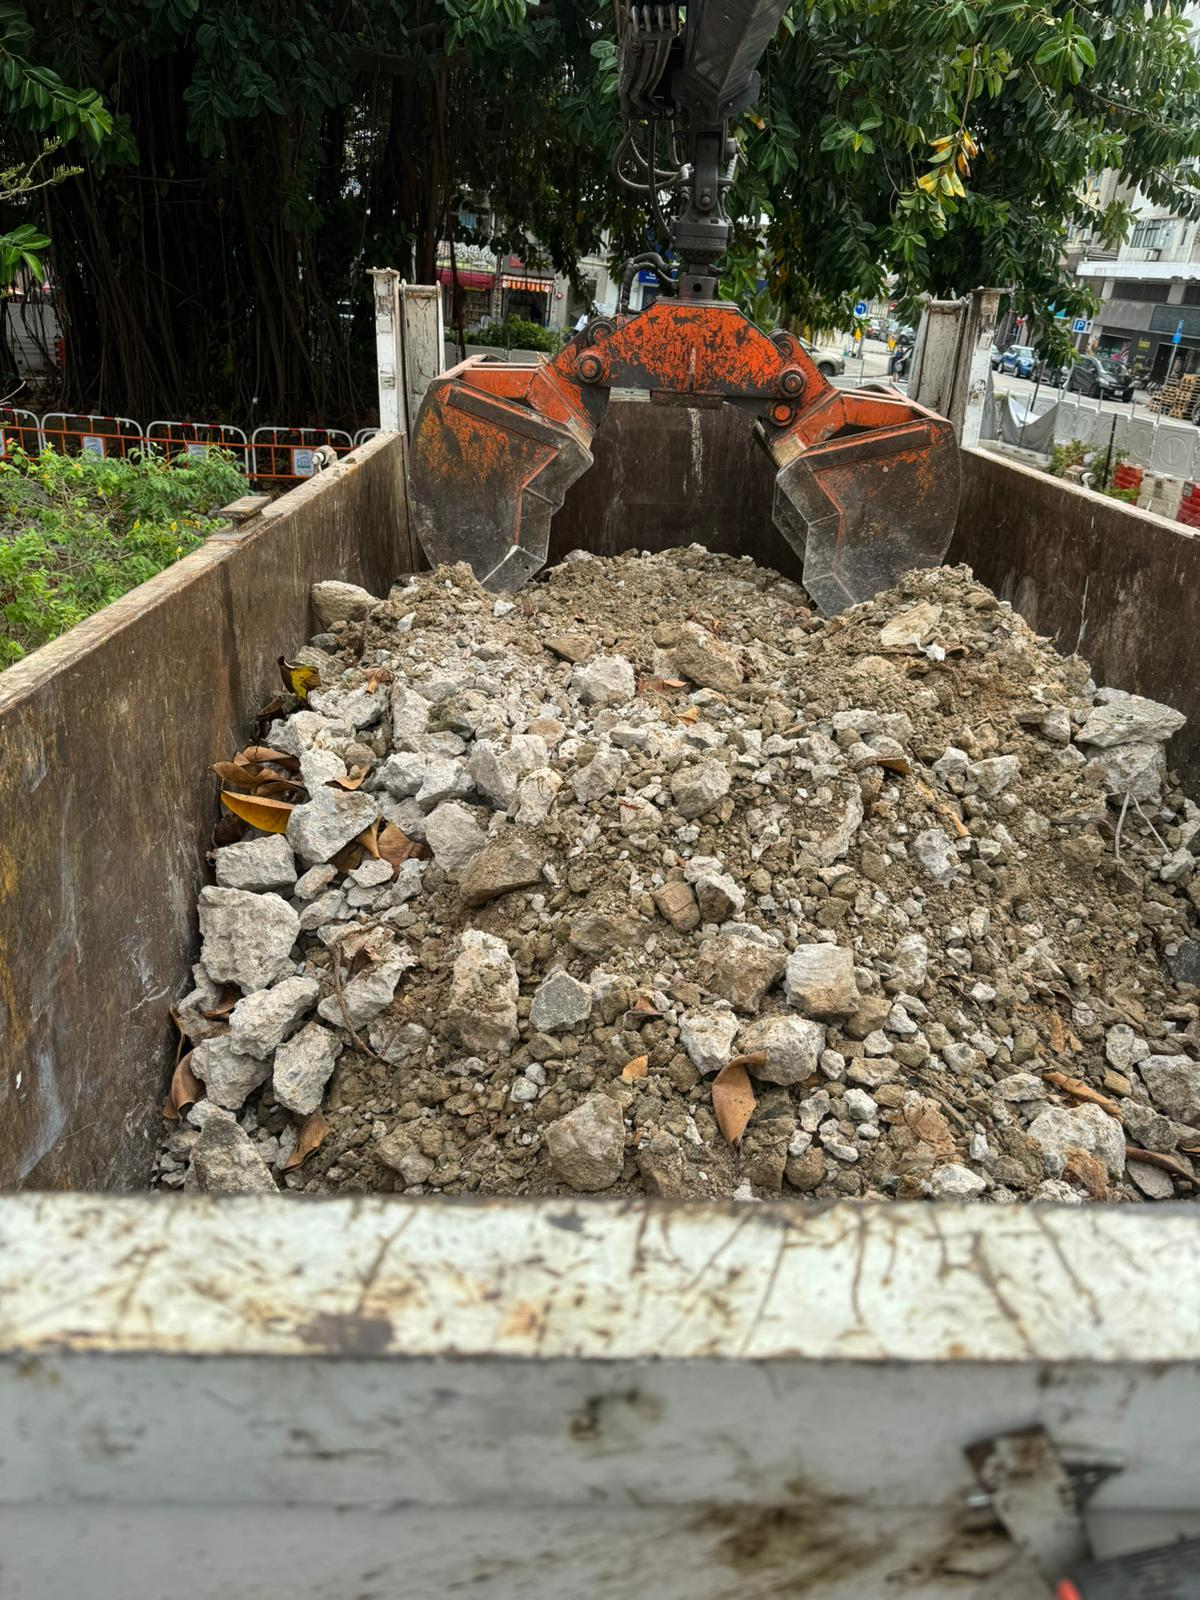dry: (213, 577, 1195, 1202)
